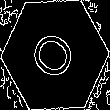O_SE: (26, 24, 84, 86)
